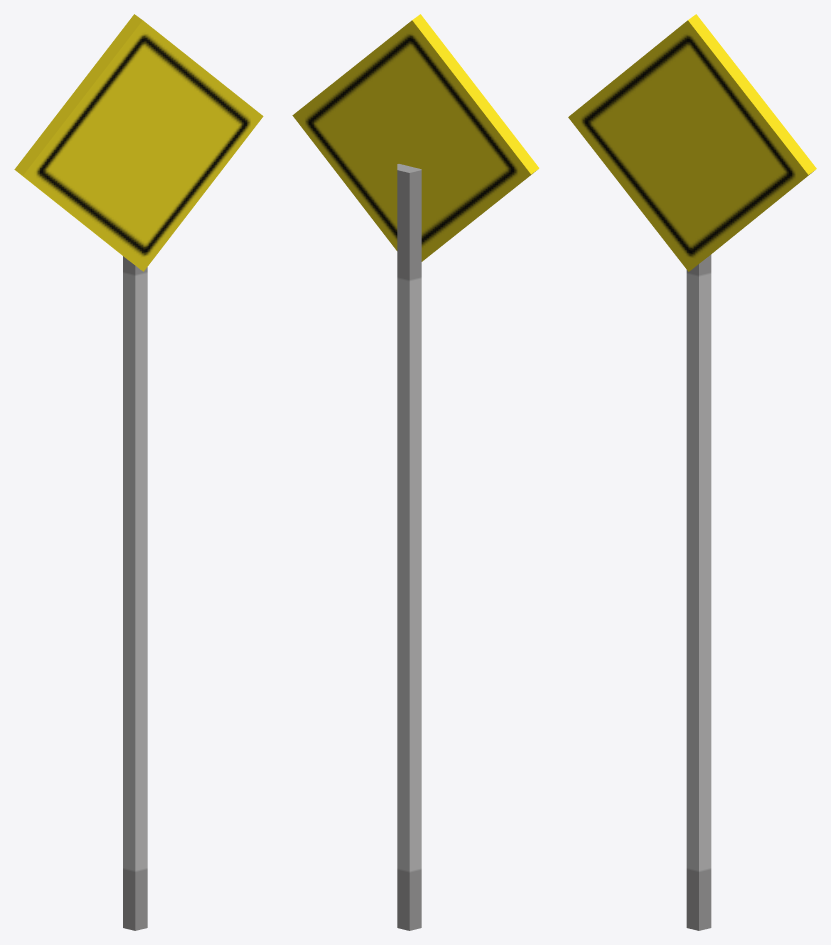
File: city_sign_04.fbx
3 renders of one model, left to right at view 1: azimuth 30°, elevation 25°; view 2: azimuth 150°, elevation 25°; view 3: azimuth 330°, elevation 25°, orthographic.
Parts seen in each view (by area): view 1: city:polySurface318; view 2: city:polySurface318; view 3: city:polySurface318.
Boxes of the visible parts, x1,y1,x2,y2 form: city:polySurface318: (14, 14, 263, 930); city:polySurface318: (292, 14, 539, 930); city:polySurface318: (568, 14, 816, 930).
Bounding box in the file's own units: 0.7105 × 2.57 × 0.0792.
